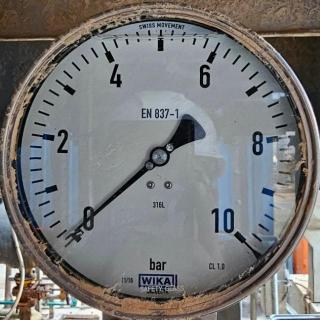gauge: (0, 0, 320, 320), (207, 206, 261, 262), (59, 210, 97, 248), (150, 145, 170, 167), (62, 228, 76, 244)
